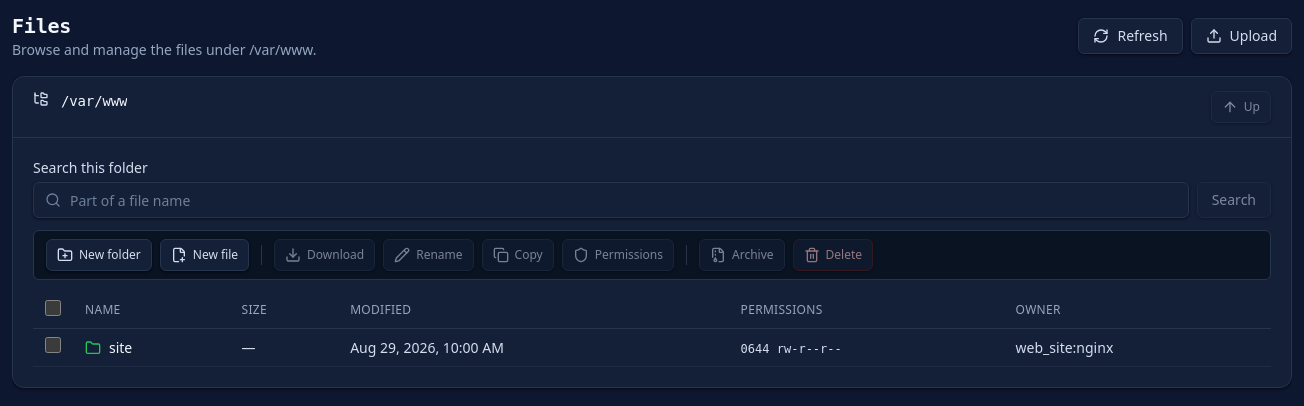
FilesPage file actions › navigates into a folder rather than opening a menu
Click the button "site". click: (121, 348)
box: left=109, top=338, right=132, bottom=358
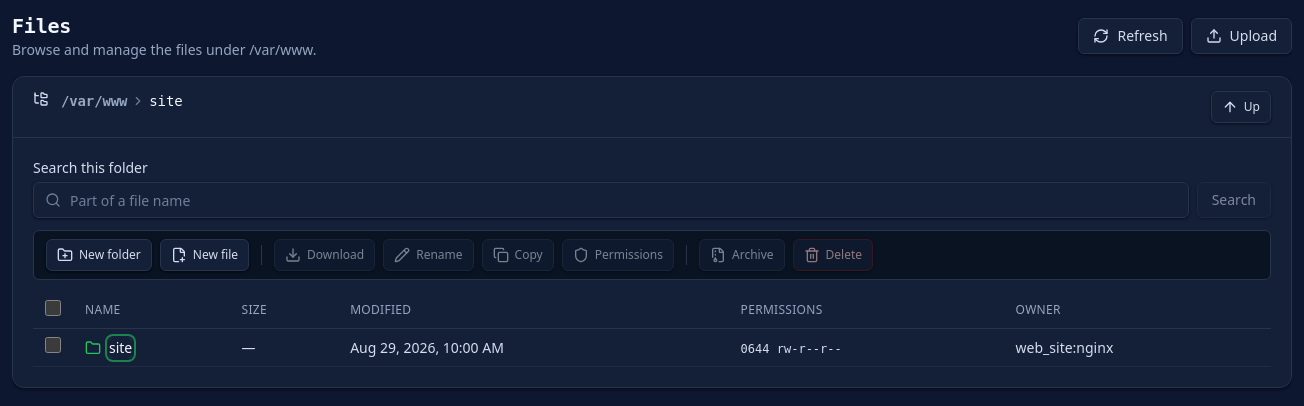
Expected: the navigation bar named "Breadcrumb" shows "site", left=149, top=91, right=182, bottom=111
